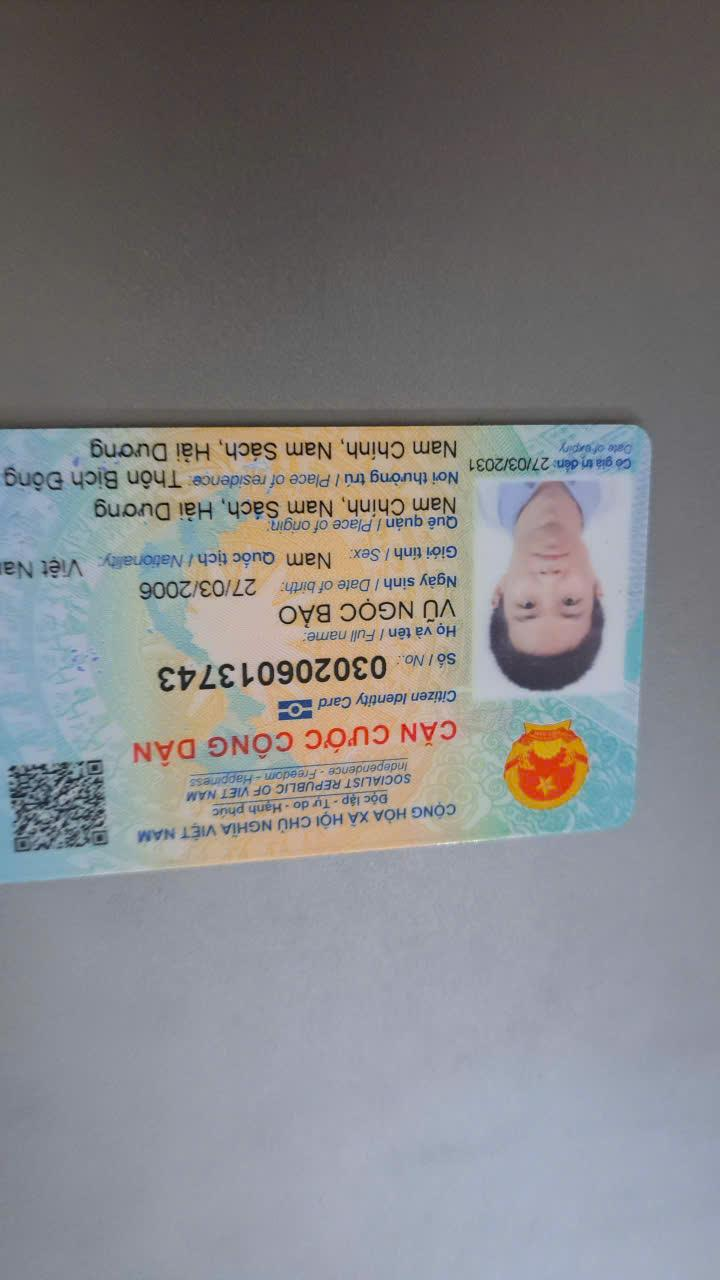cccd: (0, 415, 660, 895)
